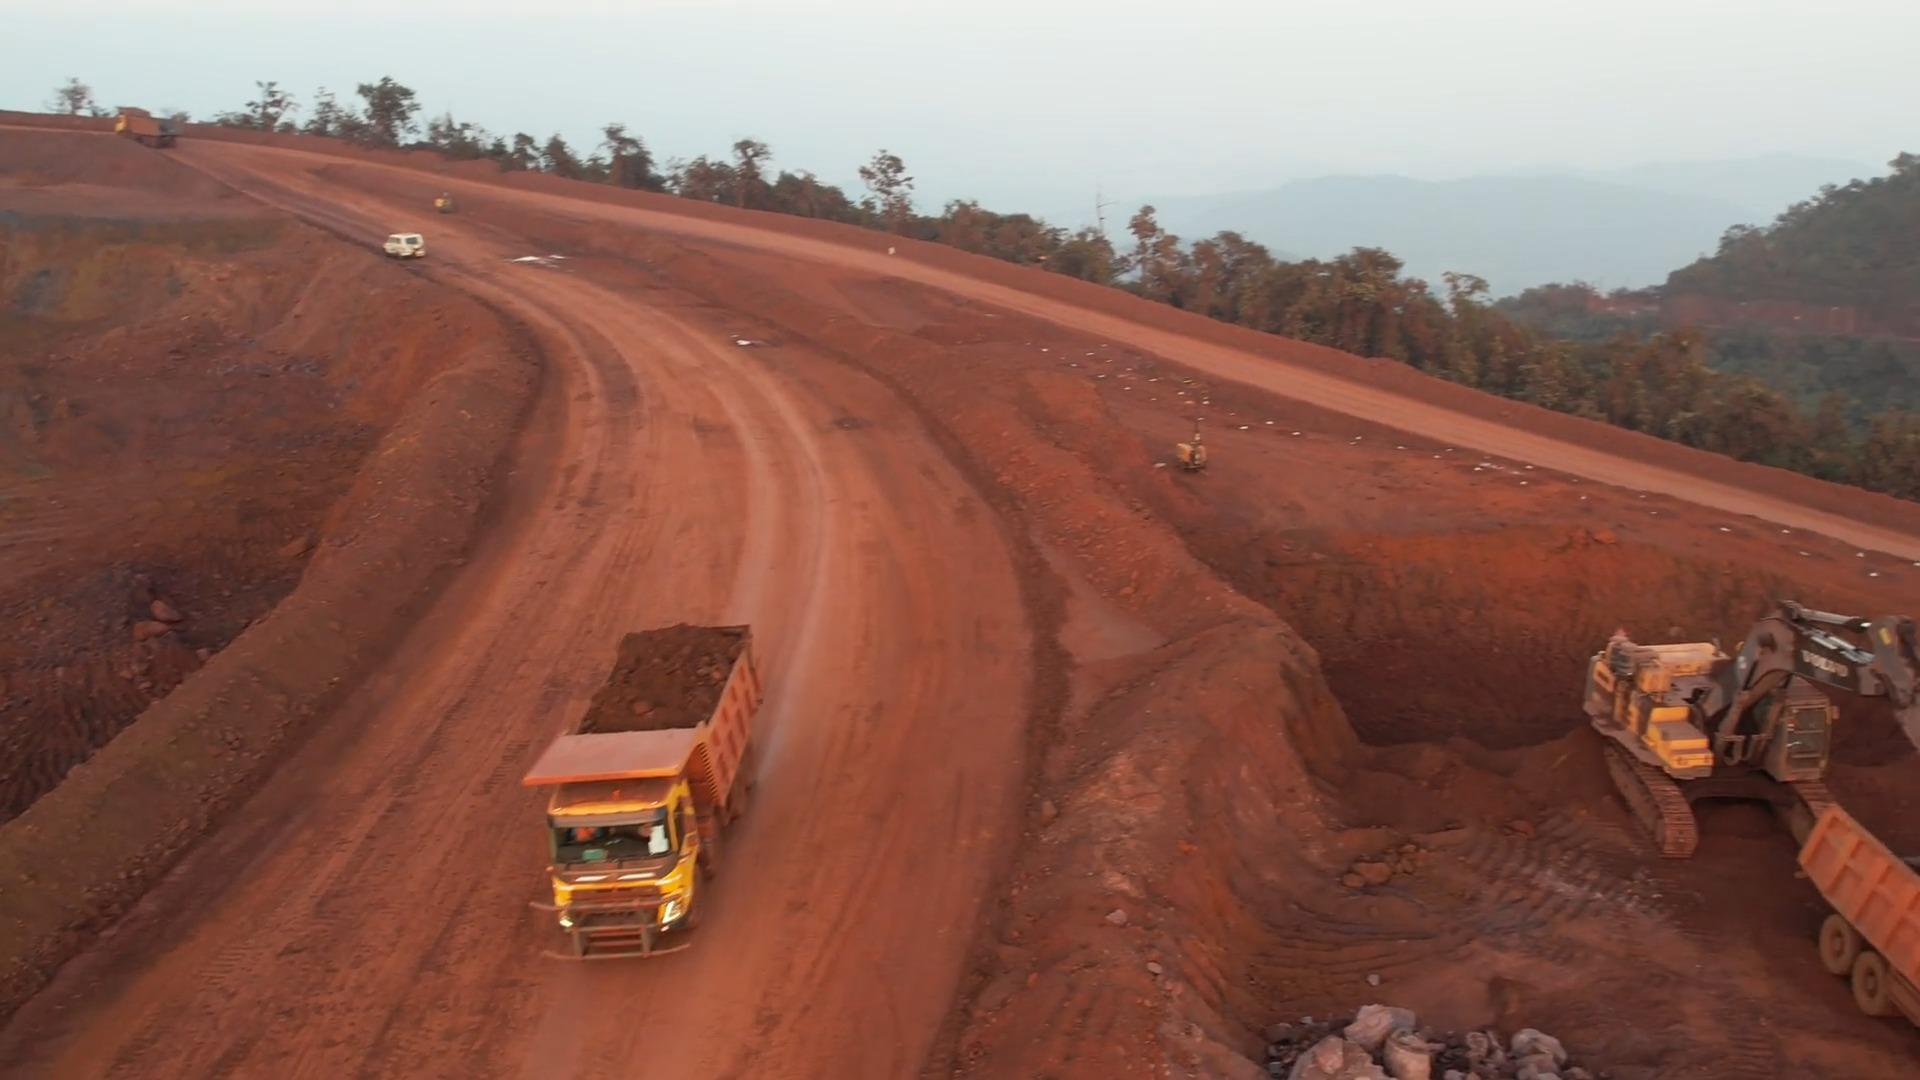excavator: (1598, 603, 1912, 794)
